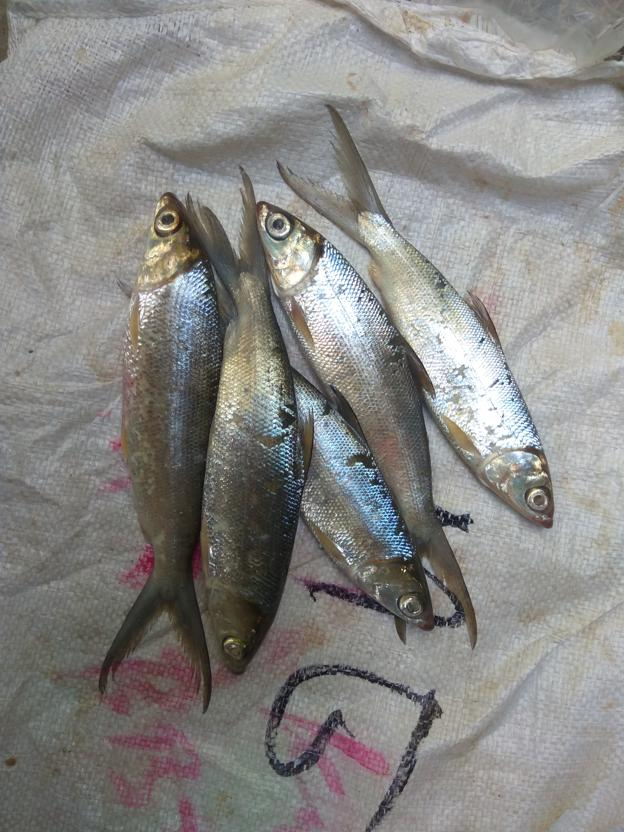Fish head: (136, 191, 206, 291), (251, 202, 324, 297), (479, 448, 559, 529), (203, 584, 272, 677), (353, 558, 437, 632)
Fish tail: (274, 100, 394, 245), (97, 569, 213, 715), (184, 163, 273, 313), (393, 517, 479, 649)
